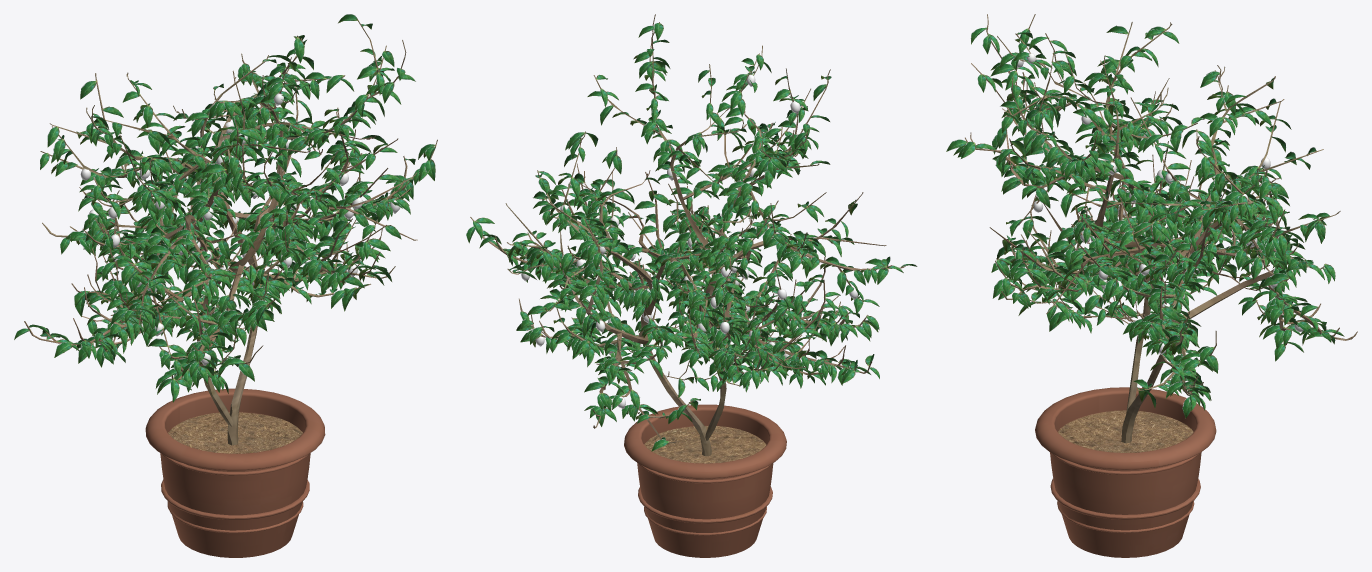
The model's file is lemon.glb.
The picture shows the model from 3 angles, left to right: view 1: azimuth 30°, elevation 25°; view 2: azimuth 150°, elevation 25°; view 3: azimuth 270°, elevation 25°; orthographic projection. The views are drawn at different scales.
Parts seen in each view (by area): view 1: lemon; view 2: lemon; view 3: lemon.
Part boxes in pixels (x1,y1,x2,y2): lemon: (14, 14, 437, 557); lemon: (466, 14, 917, 557); lemon: (946, 14, 1357, 557).
Size of the model in its own units: 2.06 by 2.34 by 1.67.
Materials: 5 (4 with a texture image).
